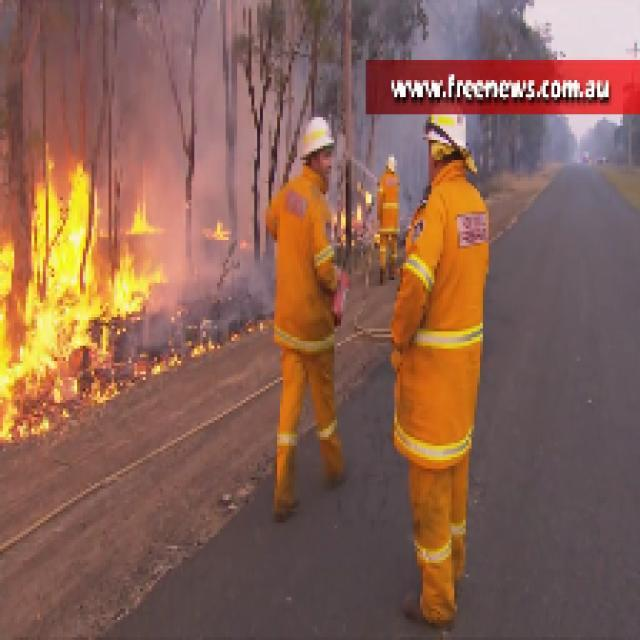Fire: (5, 168, 152, 380)
Smoke: (174, 43, 257, 203), (423, 5, 480, 60)
